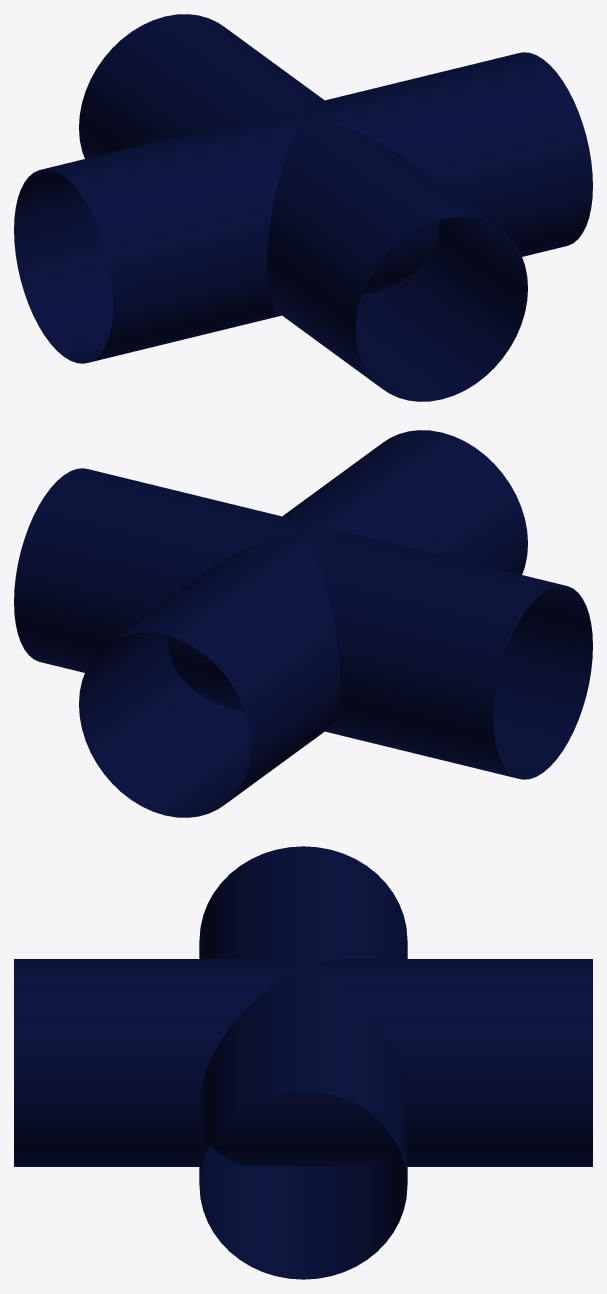
File: pipeEveryDirWtexture.fbx
The picture shows the model from 3 angles, top to bottom: view 1: azimuth 30°, elevation 25°; view 2: azimuth 150°, elevation 25°; view 3: azimuth 270°, elevation 25°; orthographic projection. The views are drawn at different scales.
Parts seen in each view (by area): view 1: NurbsPath.001; view 2: NurbsPath.001; view 3: NurbsPath.001.
Boxes of the visible parts, x1=… form: NurbsPath.001: x1=14, y1=14, x2=592, y2=401; NurbsPath.001: x1=14, y1=430, x2=592, y2=817; NurbsPath.001: x1=14, y1=846, x2=592, y2=1279.
Bounding box in the file's own units: 34.79 × 12.5 × 34.79.
